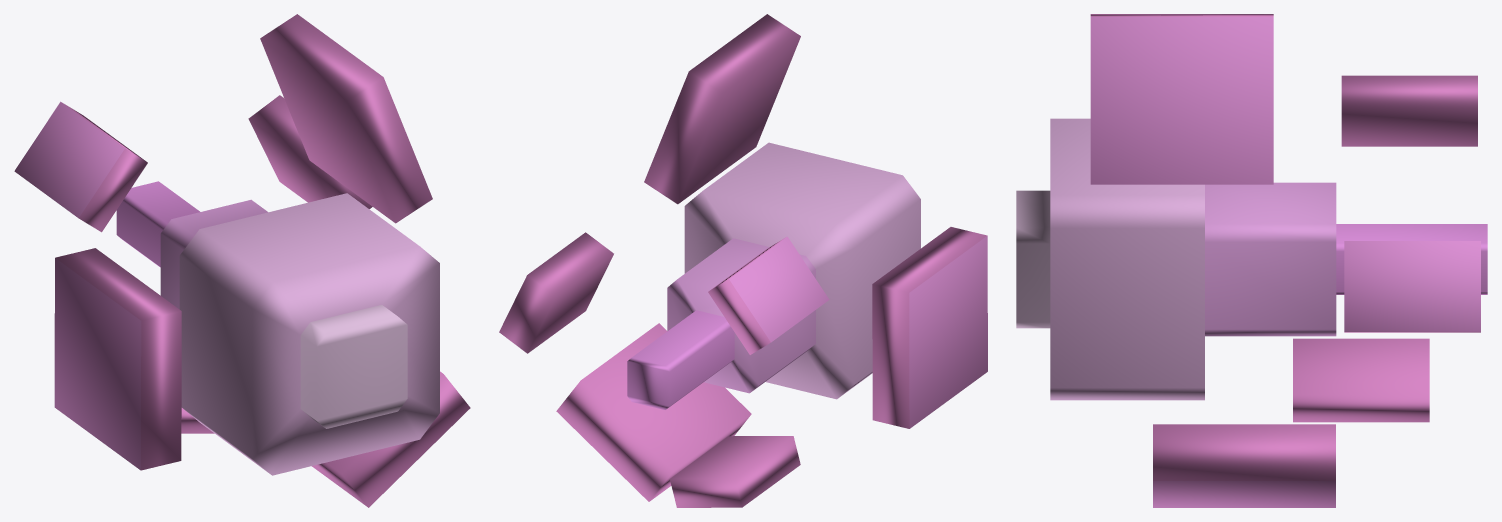
Rendered from E_SP_Petal.fbx.
3 views of the same model, side by side, from view 1: azimuth 30°, elevation 25°; view 2: azimuth 150°, elevation 25°; view 3: azimuth 270°, elevation 25° (orthographic). The views are drawn at different scales.
Parts seen in each view (by area): view 1: main_ball, leaf03, leaf01, leaf05, leaf00, leaf06; view 2: main_ball, leaf03, leaf01, leaf00, leaf05, leaf06, leaf07; view 3: main_ball, leaf01, leaf00, leaf06, leaf07, leaf05.
Part boxes in pixels (box(x1,y1,x2,y2)): main_ball: box(116, 181, 439, 475); leaf03: box(54, 248, 181, 470); leaf01: box(260, 14, 432, 223); leaf05: box(14, 101, 147, 232); leaf00: box(312, 371, 470, 507); leaf06: box(248, 95, 372, 208); main_ball: box(627, 142, 920, 409); leaf03: box(872, 227, 987, 428); leaf01: box(644, 14, 800, 204); leaf00: box(556, 323, 751, 501); leaf05: box(708, 236, 829, 354); leaf06: box(499, 232, 613, 353); leaf07: box(670, 436, 800, 507); main_ball: box(1016, 118, 1487, 400); leaf01: box(1090, 14, 1273, 184); leaf00: box(1153, 424, 1335, 507); leaf06: box(1344, 241, 1480, 332); leaf07: box(1293, 338, 1429, 422); leaf05: box(1341, 75, 1477, 146).
Size of the model in its own units: 1.56 by 1.89 by 1.67.
